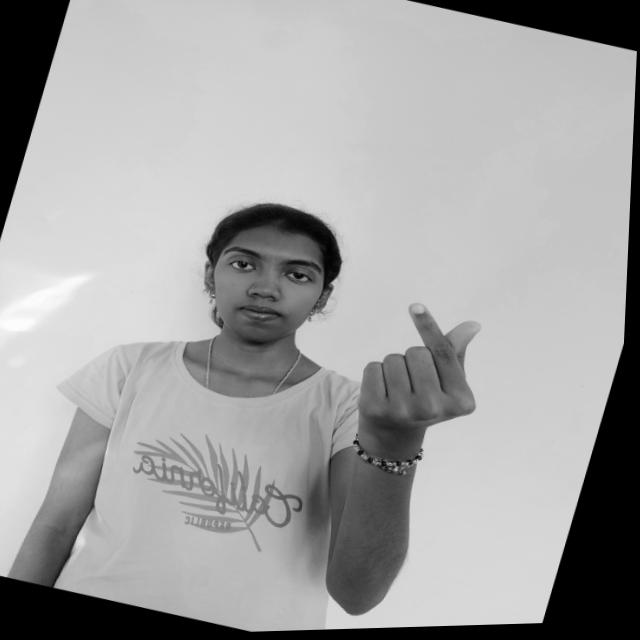Grattitude: (340, 281, 511, 472)
